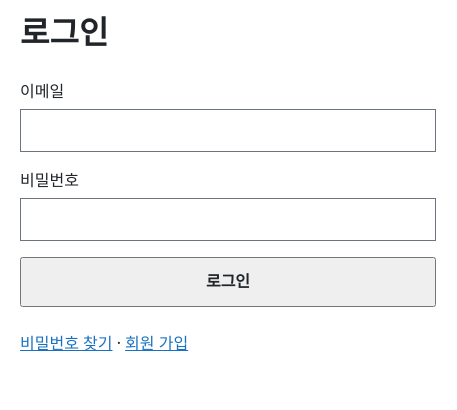
Test case: LoginPage › 실패하면 어느 칸이 틀렸는지 알리지 않는 문구 하나만 보인다
Step 1. Type "kim755030@naver.com" into the field labelled "이메일" → [228, 130], box [20,109,436,152]
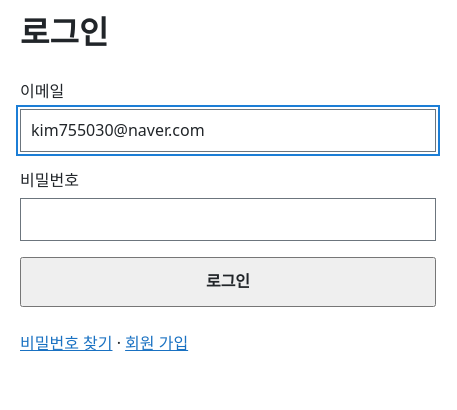
Step 2. Type "wrong" into the password field labelled "비밀번호" → [228, 220], box [20,198,436,241]
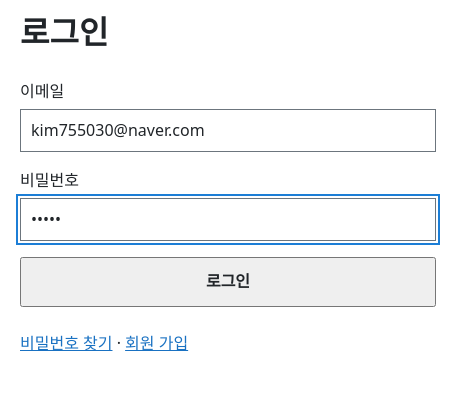
Step 3. Click the button "로그인" → [228, 282], box [20,257,436,307]
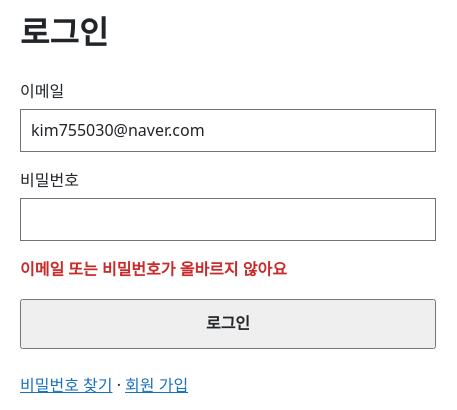
Check: the message reads "이메일 또는 비밀번호가 올바르지 않아요", box [20,258,287,280]
Check: the password field labelled "비밀번호" is empty, box [20,198,436,241]
